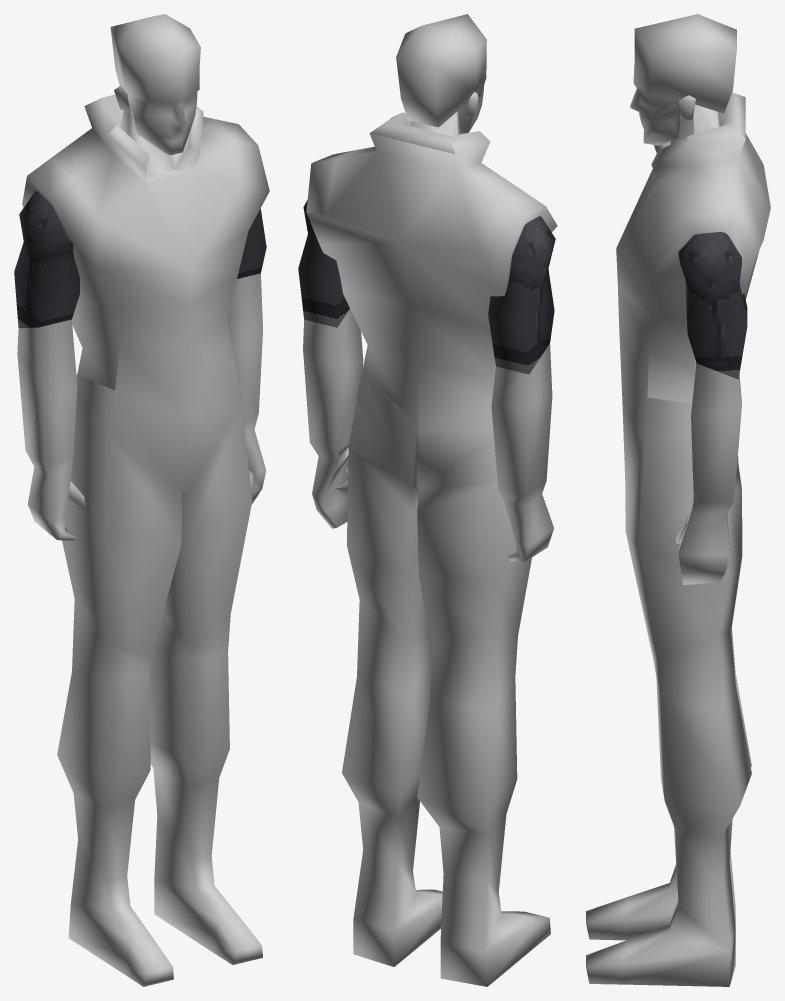
The model's file is solid_snake.obj.
3 views of the same model, side by side, from view 1: azimuth 30°, elevation 25°; view 2: azimuth 150°, elevation 25°; view 3: azimuth 270°, elevation 25° (orthographic).
Parts seen in each view (by area): view 1: Chest_Front, Lower_Legs, Upper_Holster_Leg, Waist_Front, Feet, Upper_Leg, Lower_Arms, Upper_Arms, Head_Front, Chest_Sides, Hand_Fronts, Waist_Sides (+6 smaller); view 2: Lower_Legs, Chest_Back, Feet, Upper_Holster_Leg, Lower_Arms, Waist_Back, Upper_Arms, Upper_Leg, Backside, Collar_Sides, Head_Top, Hand_Fronts (+7 smaller); view 3: Lower_Legs, Upper_Leg, Feet, Chest_Front, Upper_Arms, Lower_Arms, Chest_Sides, Head_Sides, Waist_Sides, Waist_Front, Head_Top, Chest_Back (+6 smaller).
Boxes of the visible parts, x1=… form: Chest_Front: x1=27, y1=94, x2=269, y2=344; Lower_Legs: x1=57, y1=599, x2=230, y2=881; Upper_Holster_Leg: x1=62, y1=406, x2=181, y2=656; Waist_Front: x1=109, y1=318, x2=241, y2=492; Feet: x1=68, y1=816, x2=262, y2=986; Upper_Leg: x1=163, y1=405, x2=252, y2=646; Lower_Arms: x1=17, y1=273, x2=262, y2=464; Upper_Arms: x1=14, y1=191, x2=266, y2=328; Head_Front: x1=138, y1=47, x2=200, y2=155; Chest_Sides: x1=22, y1=176, x2=120, y2=347; Hand_Fronts: x1=26, y1=413, x2=265, y2=522; Waist_Sides: x1=76, y1=344, x2=120, y2=435; Lower_Legs: x1=342, y1=600, x2=517, y2=891; Chest_Back: x1=306, y1=152, x2=525, y2=374; Feet: x1=353, y1=850, x2=550, y2=986; Upper_Holster_Leg: x1=417, y1=482, x2=531, y2=646; Lower_Arms: x1=303, y1=309, x2=552, y2=495; Waist_Back: x1=356, y1=345, x2=493, y2=488; Upper_Arms: x1=298, y1=200, x2=555, y2=374; Upper_Leg: x1=347, y1=390, x2=430, y2=640; Backside: x1=349, y1=400, x2=497, y2=511; Collar_Sides: x1=369, y1=120, x2=489, y2=170; Head_Top: x1=396, y1=14, x2=486, y2=67; Hand_Fronts: x1=310, y1=442, x2=553, y2=546; Lower_Legs: x1=653, y1=628, x2=751, y2=906; Upper_Leg: x1=625, y1=439, x2=742, y2=660; Feet: x1=586, y1=850, x2=735, y2=986; Chest_Front: x1=616, y1=93, x2=738, y2=348; Upper_Arms: x1=678, y1=232, x2=747, y2=379; Lower_Arms: x1=691, y1=360, x2=741, y2=501; Chest_Sides: x1=649, y1=221, x2=756, y2=369; Head_Sides: x1=647, y1=50, x2=736, y2=137; Waist_Sides: x1=646, y1=349, x2=694, y2=445; Waist_Front: x1=619, y1=323, x2=648, y2=478; Head_Top: x1=635, y1=14, x2=736, y2=55; Chest_Back: x1=733, y1=133, x2=770, y2=299.
Size of the model in its own units: 24.8 by 92.15 by 16.55.
